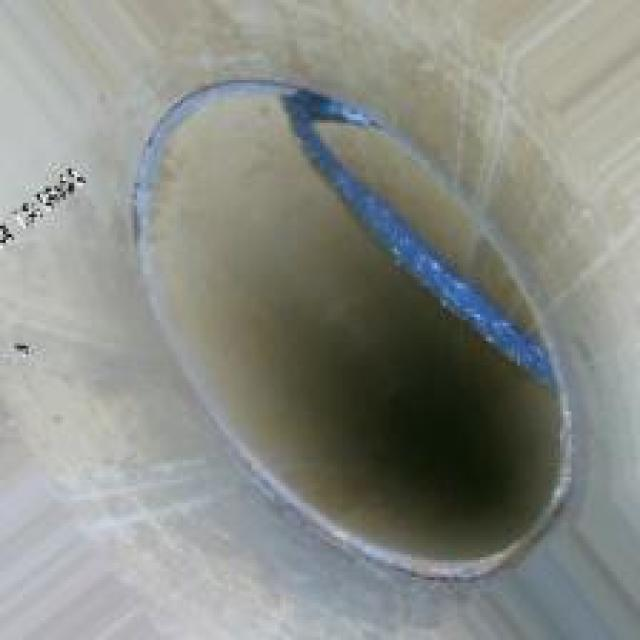joint: (128, 65, 583, 586)
